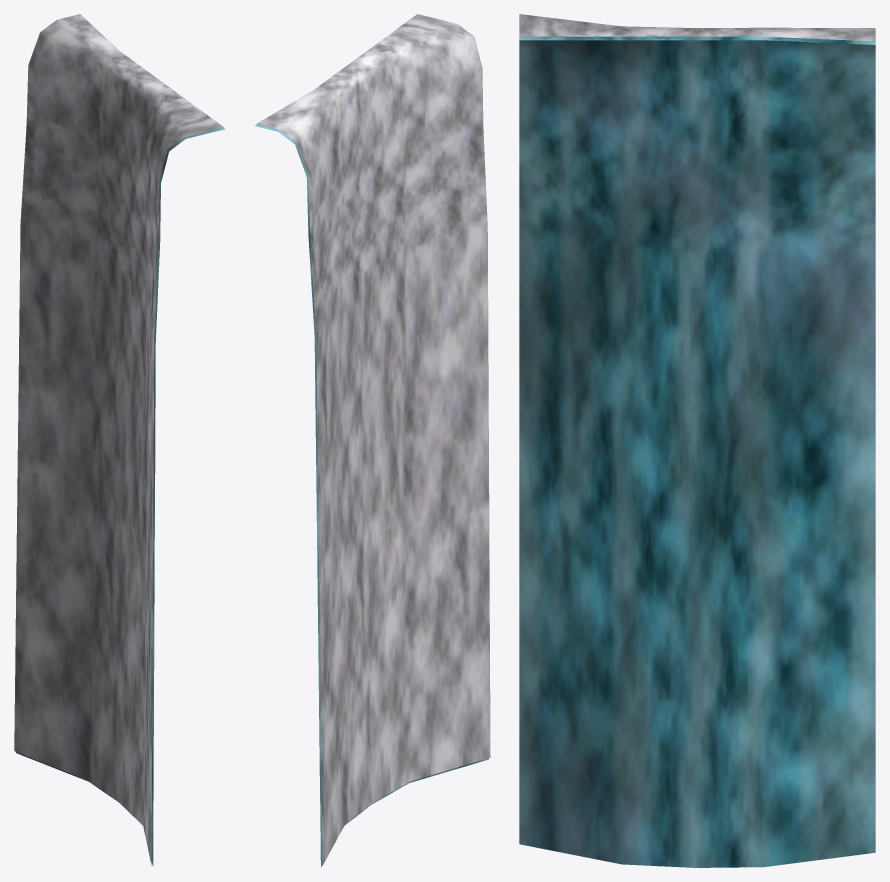
Rendered from OVERHILL_A_01_LINE303.fbx.
3 renders of one model, left to right at view 1: azimuth 30°, elevation 25°; view 2: azimuth 150°, elevation 25°; view 3: azimuth 270°, elevation 25°, orthographic. The views are drawn at different scales.
Visible parts, largest first — view 1: OVERHILL_A_01_LINE303; view 2: OVERHILL_A_01_LINE303; view 3: OVERHILL_A_01_LINE303.
Boxes of the visible parts, x1,y1,x2,y2 form: OVERHILL_A_01_LINE303: [14, 14, 225, 866]; OVERHILL_A_01_LINE303: [255, 14, 490, 867]; OVERHILL_A_01_LINE303: [519, 14, 875, 867].
Bounding box in the file's own units: 13476 × 113071 × 43094.
2 materials, 2 textured.
